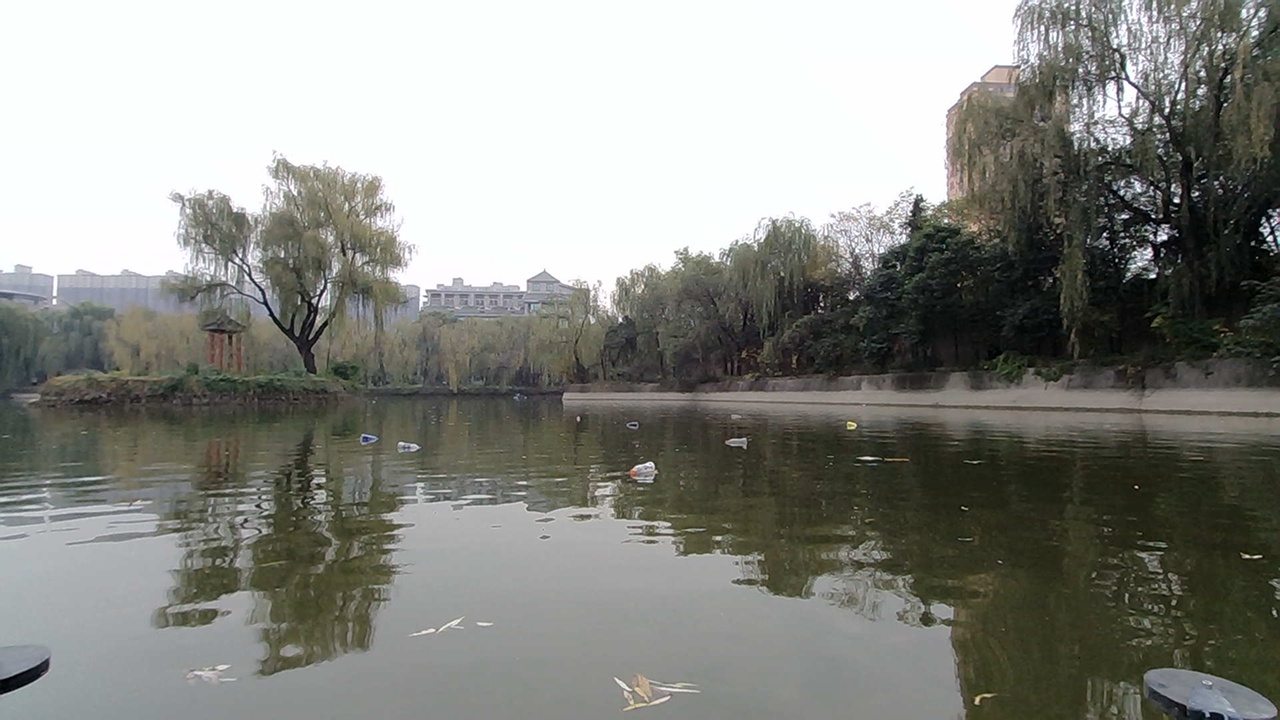bottle: (718, 416, 761, 454), (398, 429, 434, 462), (568, 403, 600, 429), (627, 461, 660, 486), (624, 406, 653, 434), (360, 428, 384, 455), (839, 416, 862, 441)
